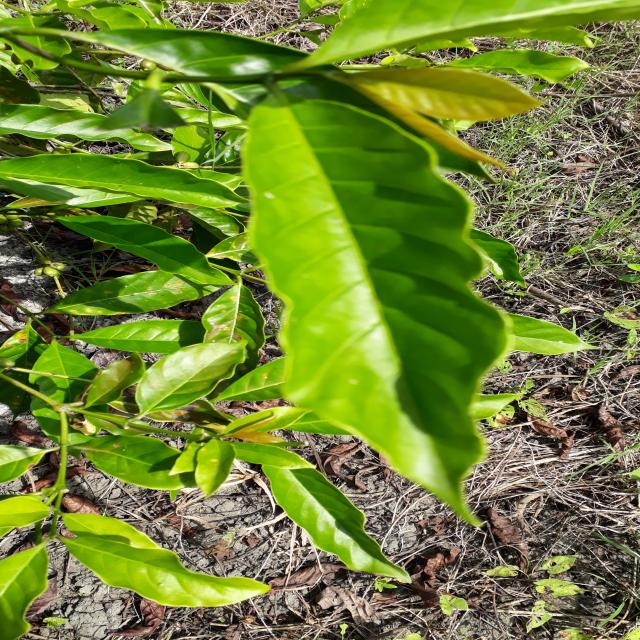Sanas: (240, 73, 520, 528)
